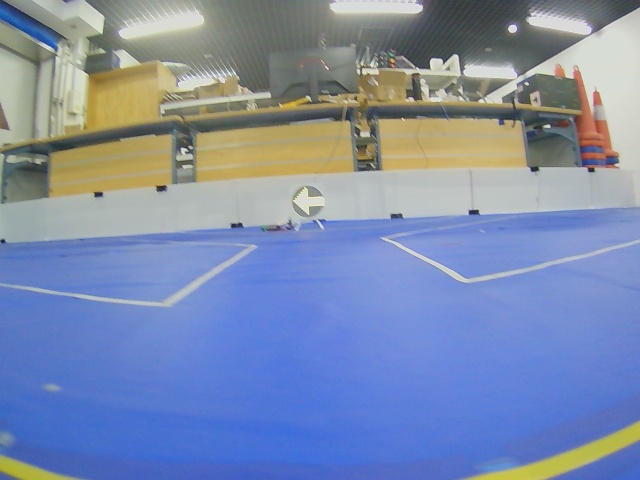left_yellow: (292, 186, 326, 217)
